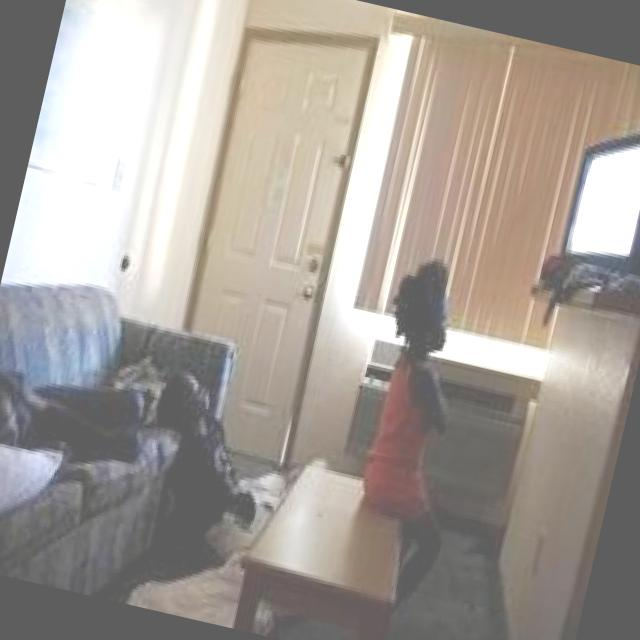no_vest: (350, 349, 454, 522)
